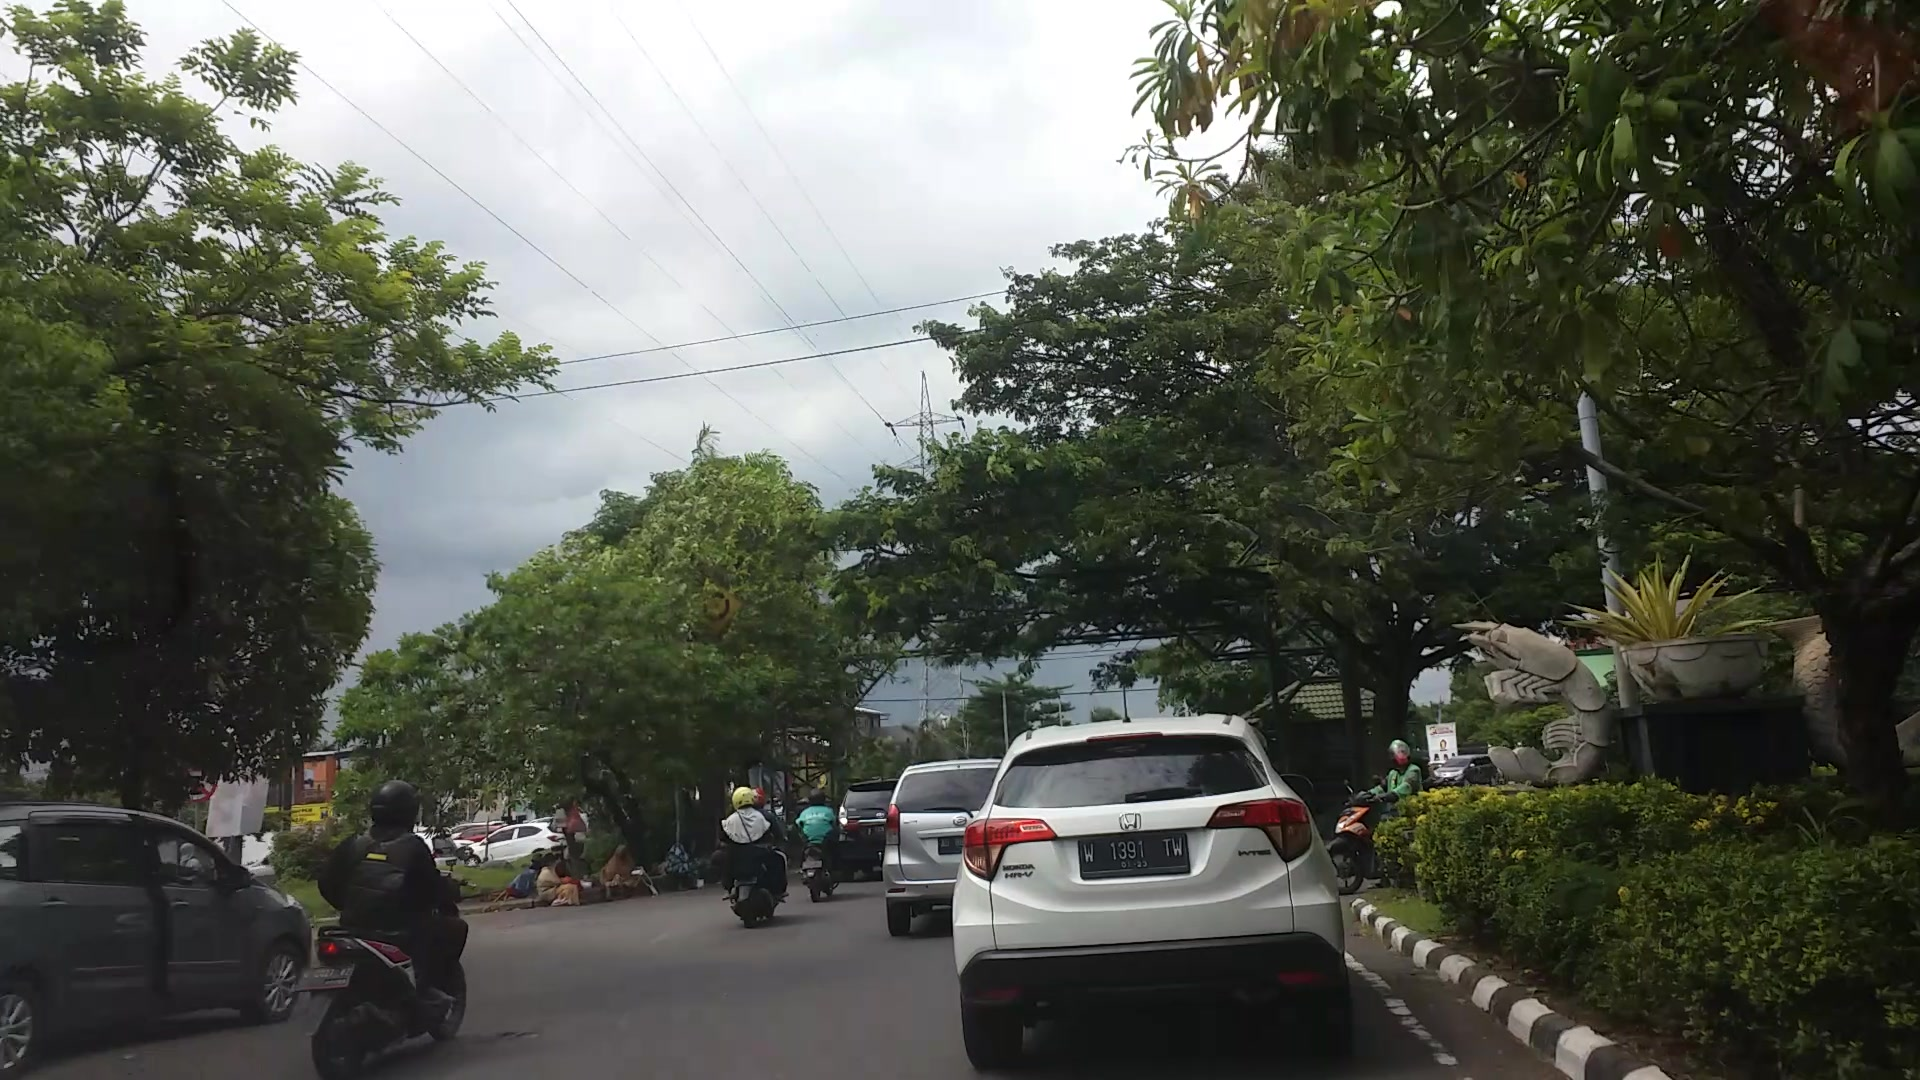plate_positive: (1077, 835, 1191, 880)
